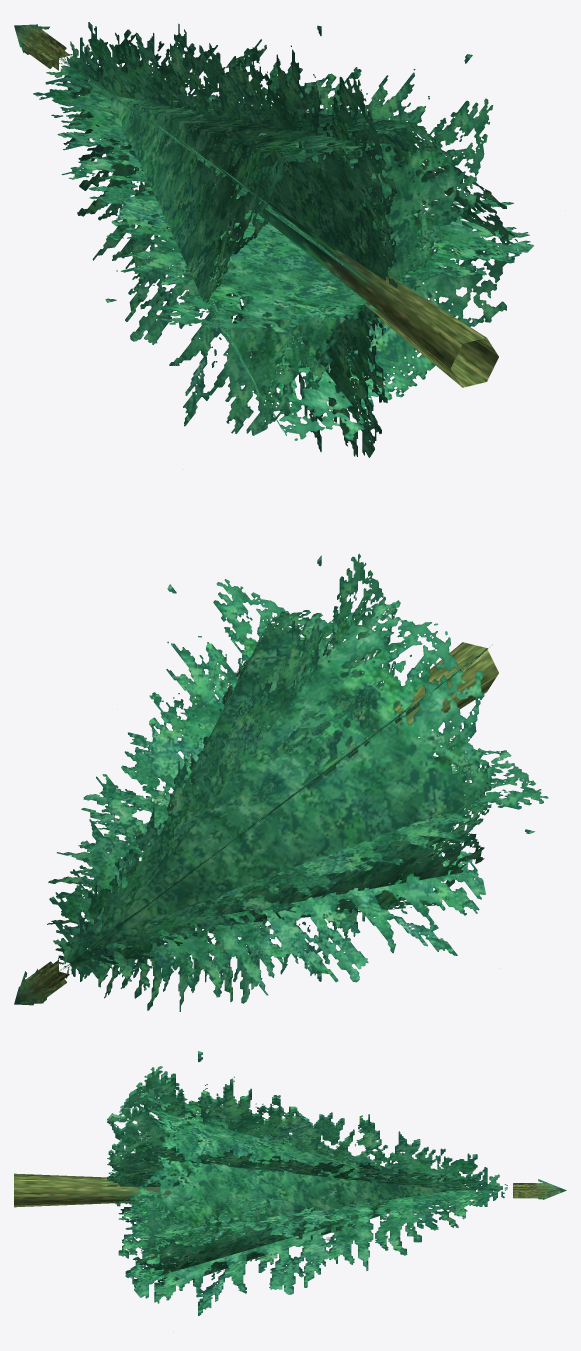
The model's file is polygon0.044.obj.
The picture shows the model from 3 angles, top to bottom: view 1: azimuth 30°, elevation 25°; view 2: azimuth 150°, elevation 25°; view 3: azimuth 270°, elevation 25°; orthographic projection. The views are drawn at different scales.
Visible parts, largest first — view 1: TreeA.035; view 2: TreeA.035; view 3: TreeA.035.
Part boxes in pixels (left/top/right/bottom): TreeA.035: left=14, top=22, right=533, bottom=457; TreeA.035: left=14, top=553, right=548, bottom=1011; TreeA.035: left=14, top=1051, right=566, bottom=1315.
Size of the model in its own units: 146 by 146 by 260.
1 material, 1 textured.
